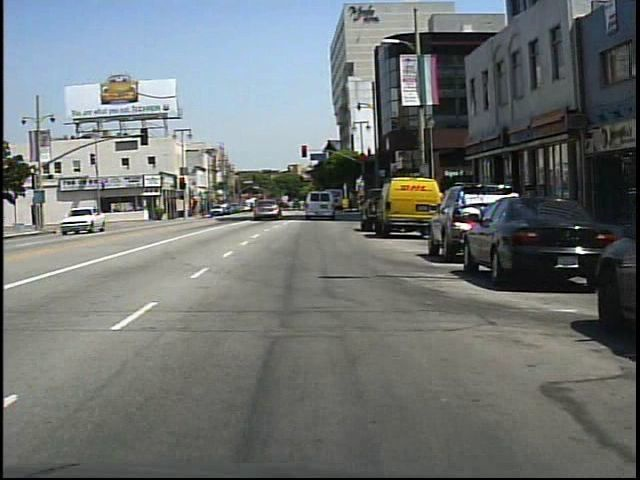person: (253, 192, 270, 222), (89, 203, 105, 230)
